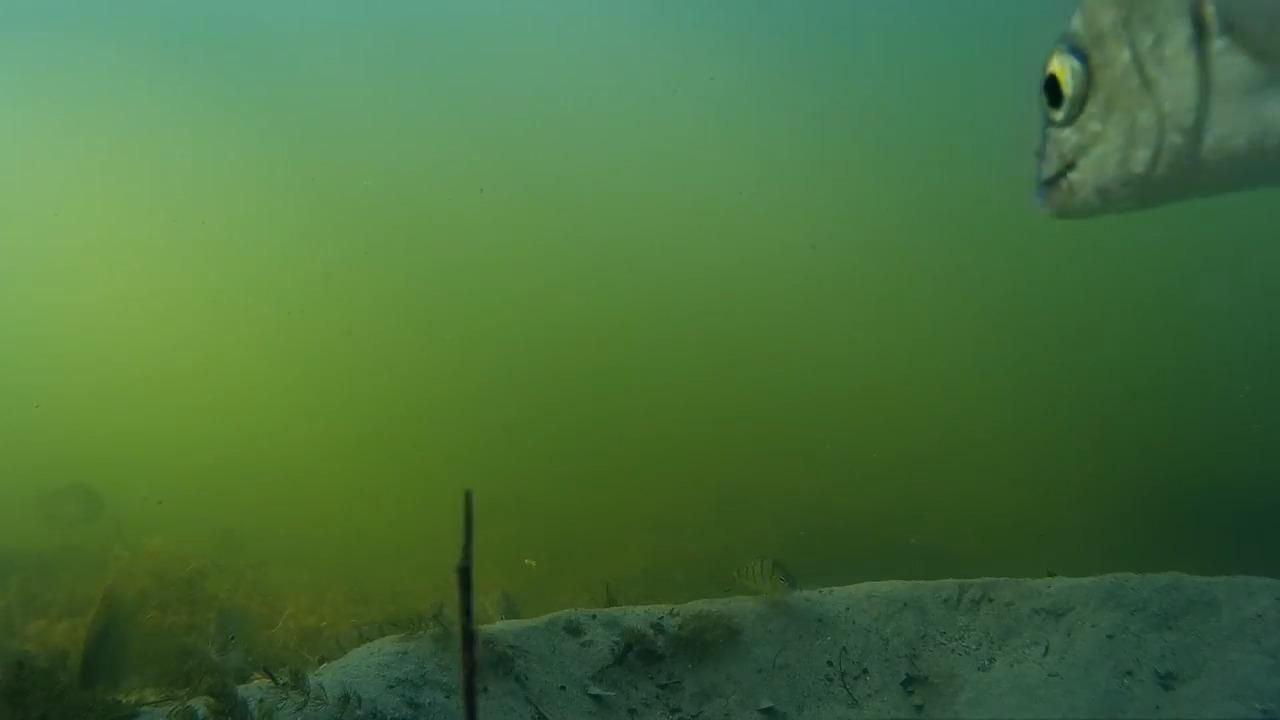Tilapia: (967, 0, 1168, 218), (720, 542, 807, 620)
